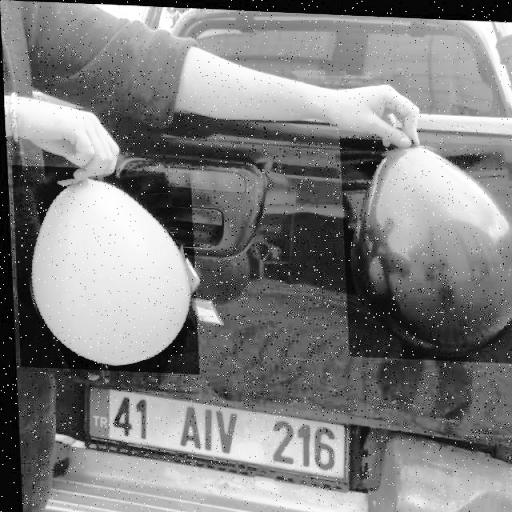balloon: (338, 134, 512, 360), (10, 165, 196, 373)
